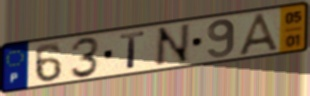3: (69, 36, 101, 80)
6: (33, 41, 64, 84)
9: (206, 18, 236, 59)
A: (236, 11, 283, 56)
N: (153, 22, 192, 69)
T: (118, 30, 147, 71)
